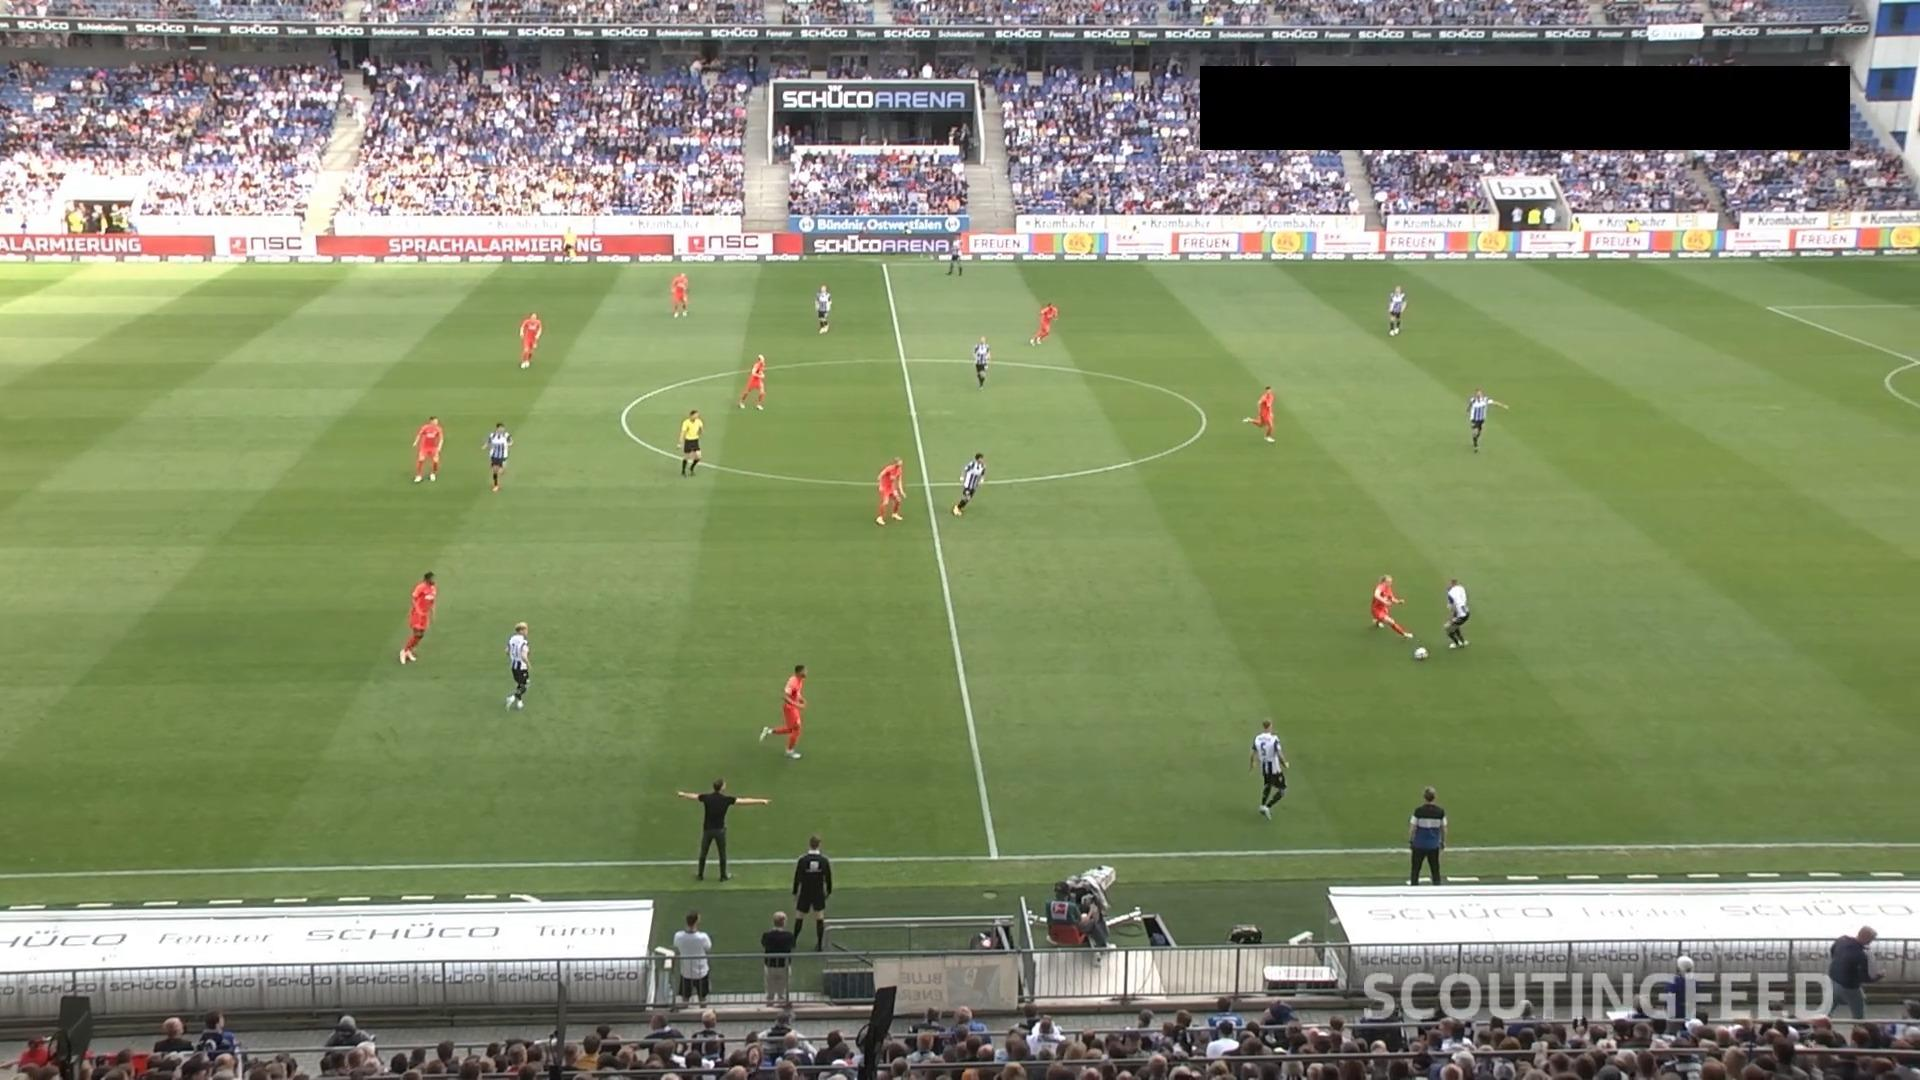ball: (1414, 645, 1429, 662)
